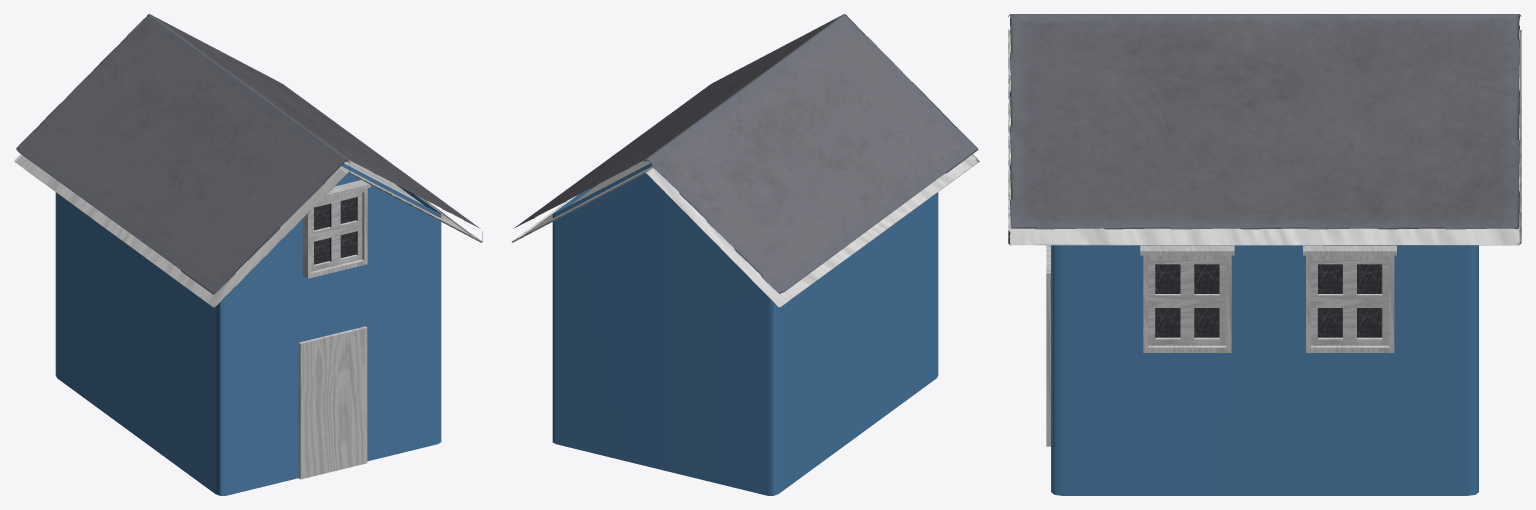
File: House_1.fbx
3 views of the same model, side by side, from view 1: azimuth 30°, elevation 25°; view 2: azimuth 150°, elevation 25°; view 3: azimuth 270°, elevation 25° (orthographic). The views are drawn at different scales.
Visible parts, largest first — view 1: House_1; view 2: House_1; view 3: House_1.
Part boxes in pixels (x1=…): House_1: x1=14, y1=14, x2=482, y2=495; House_1: x1=511, y1=14, x2=979, y2=495; House_1: x1=1008, y1=14, x2=1521, y2=495.
Bounding box in the file's own units: 4.02 × 4.59 × 5.19.
